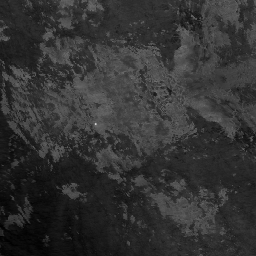Target: (92, 121, 98, 126)
